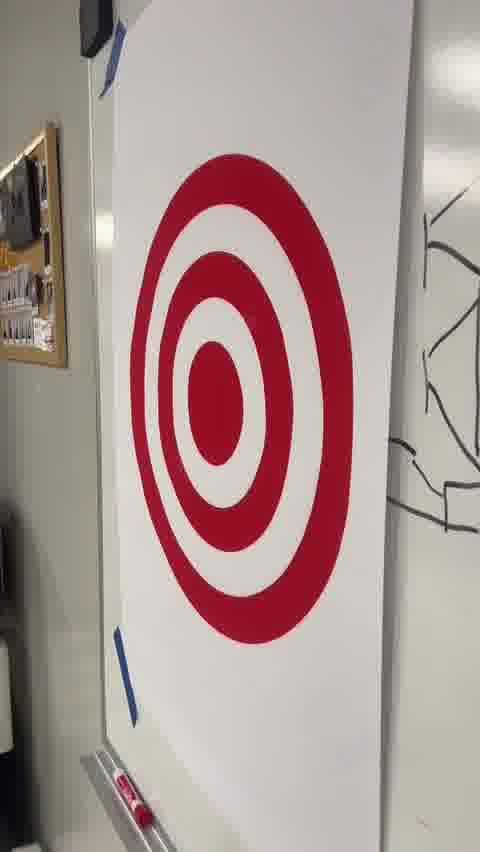target_red: (128, 152, 353, 643)
